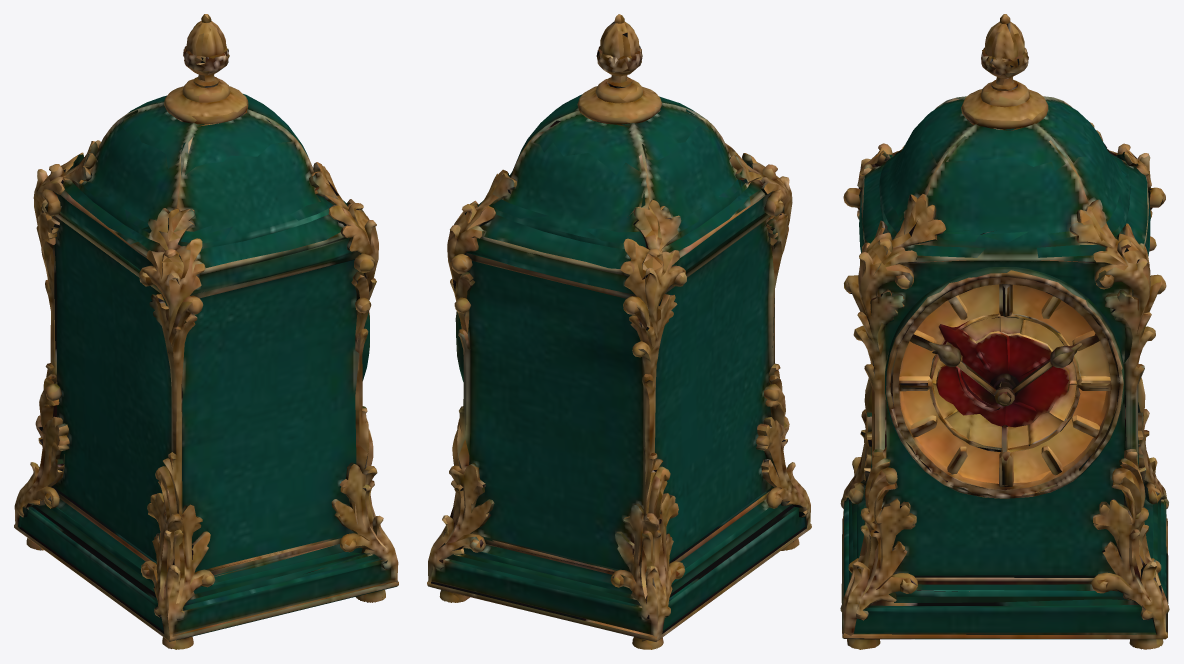
Rendered from MO-08_clock_game.glb.
3 renders of one model, left to right at view 1: azimuth 30°, elevation 25°; view 2: azimuth 150°, elevation 25°; view 3: azimuth 270°, elevation 25°, orthographic. The views are drawn at different scales.
Visible parts, largest first — view 1: MO-08_clock; view 2: MO-08_clock; view 3: MO-08_clock.
Part boxes in pixels (x1,y1,x2,y2): MO-08_clock: (14,14,398,649); MO-08_clock: (427,14,811,649); MO-08_clock: (840,14,1169,649).
Size of the model in its own units: 0.1811 by 0.4 by 0.2058.
1 material, 1 textured.
